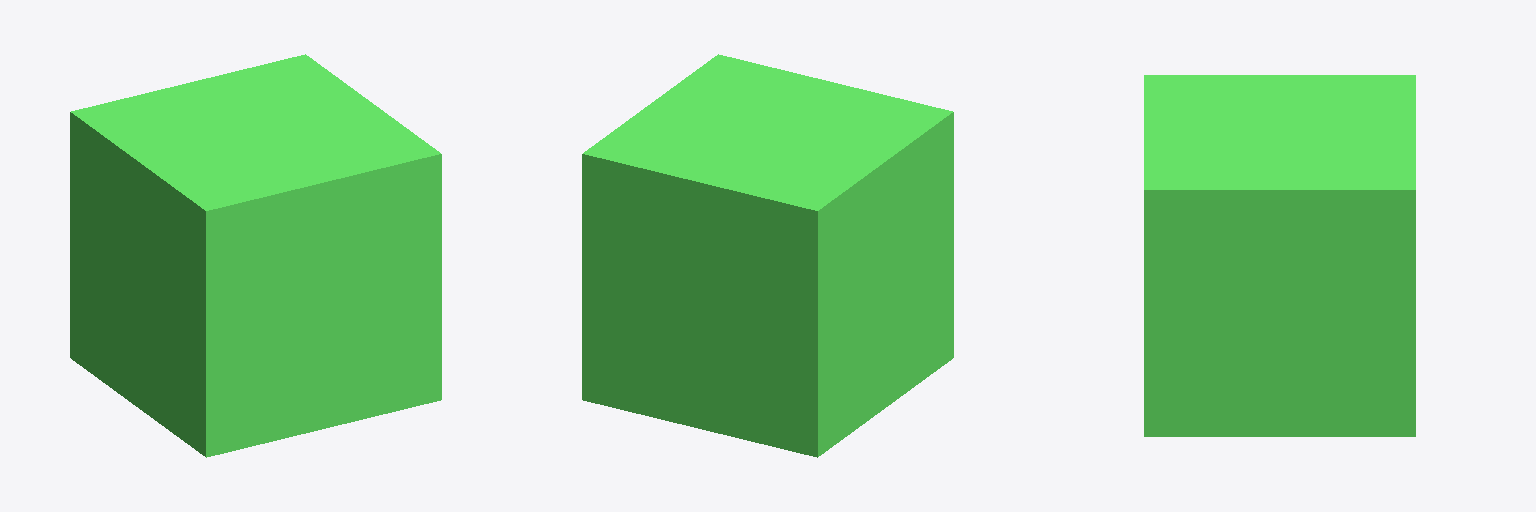
3 renders of one model, left to right at view 1: azimuth 30°, elevation 25°; view 2: azimuth 150°, elevation 25°; view 3: azimuth 270°, elevation 25°, orthographic.
Parts seen in each view (by area): view 1: Cube; view 2: Cube; view 3: Cube.
Boxes of the visible parts, x1=… form: Cube: x1=70, y1=54, x2=441, y2=457; Cube: x1=582, y1=54, x2=953, y2=457; Cube: x1=1144, y1=75, x2=1415, y2=436.
Size of the model in its own units: 2 by 2 by 2.
1 materials, 1 textured.